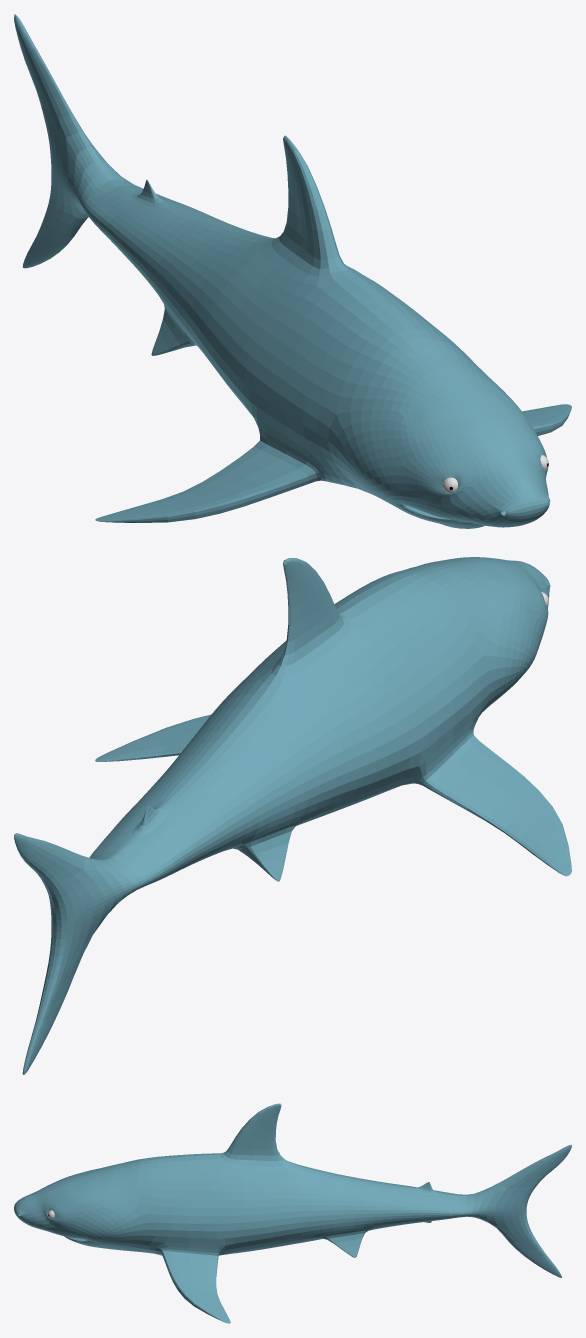
File: shark_high.fbx
3 renders of one model, top to bottom at view 1: azimuth 30°, elevation 25°; view 2: azimuth 150°, elevation 25°; view 3: azimuth 270°, elevation 25°, orthographic. The views are drawn at different scales.
Visible parts, largest first — view 1: shark_high; view 2: shark_high; view 3: shark_high.
Part boxes in pixels (left/top/right/bottom): shark_high: left=14, top=14, right=571, bottom=528; shark_high: left=14, top=557, right=571, bottom=1074; shark_high: left=14, top=1103, right=571, bottom=1323.
Bounding box in the file's own units: 433 × 283 × 819.
